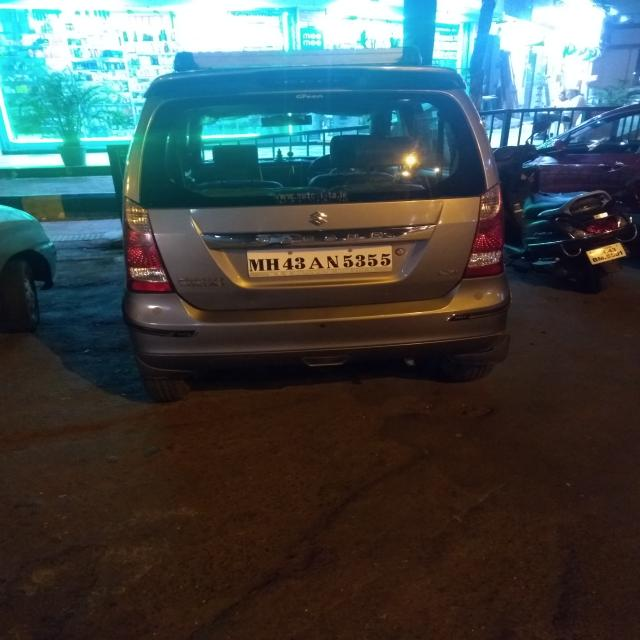Number-Plate: (252, 244, 390, 274)
